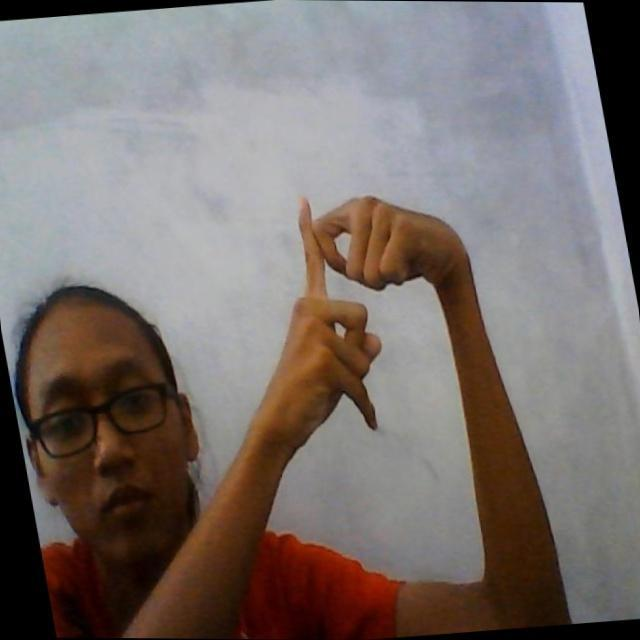K: (262, 179, 394, 437)
